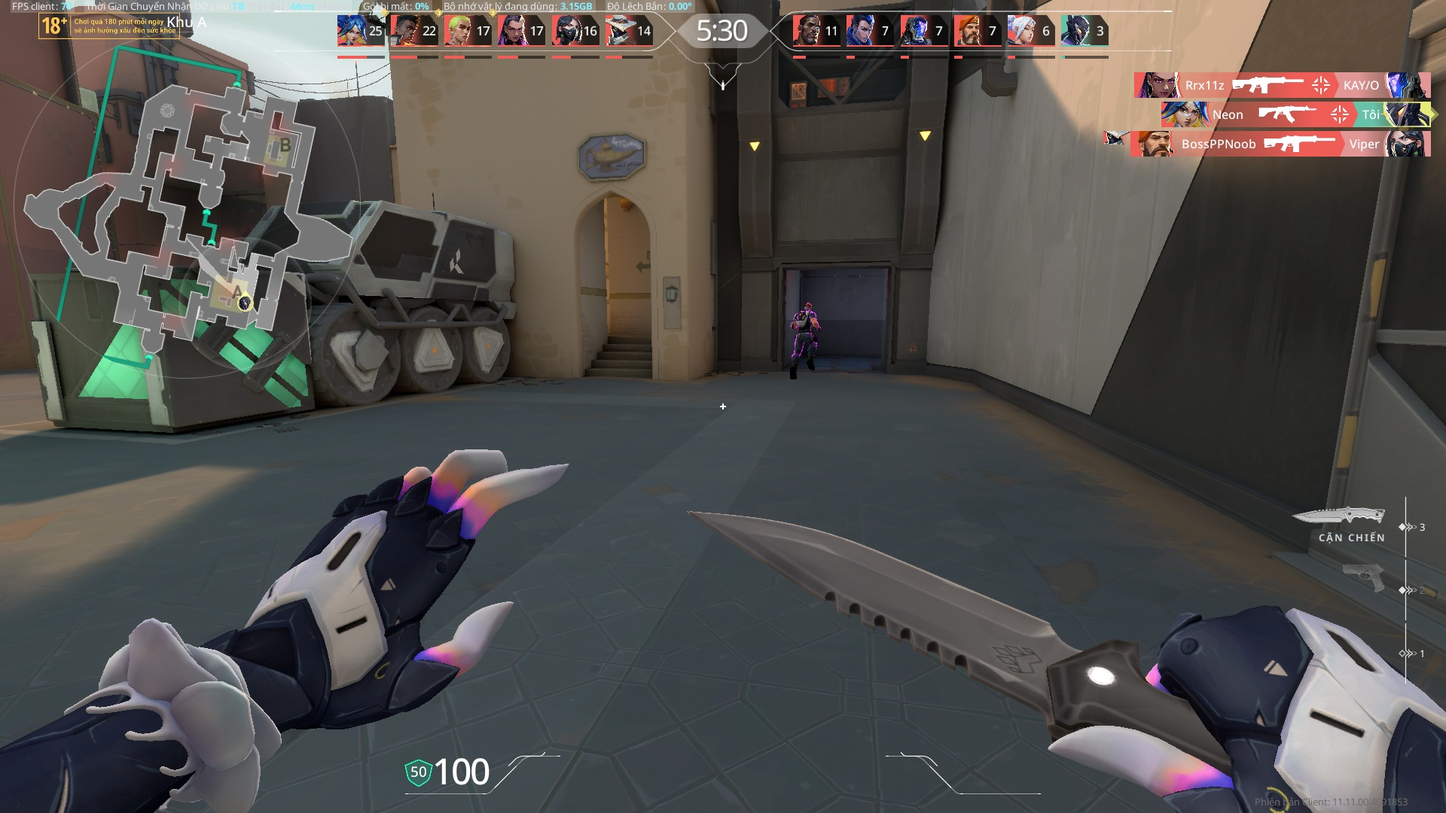body: (789, 308, 822, 333)
head: (798, 299, 816, 311)
